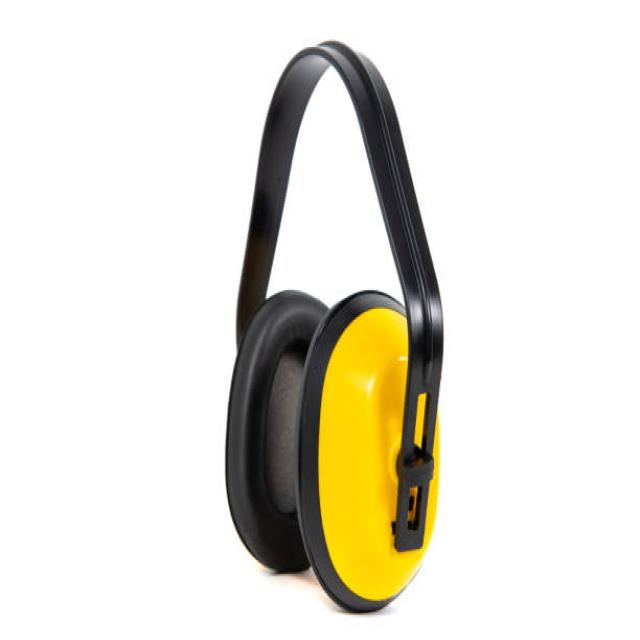Ear-protection: (197, 23, 469, 627)
